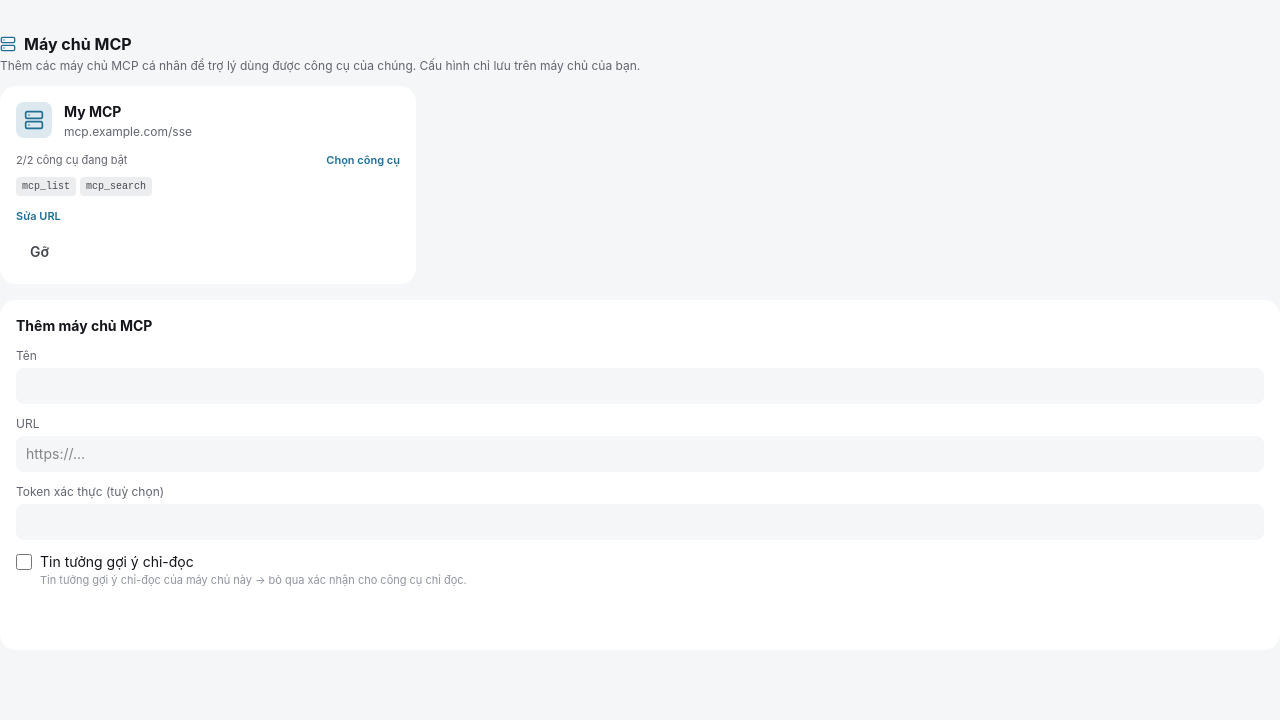
Test: Esc closes the tool dialog without saving
This screenshot has width=1280, height=720.
Expected: the text "My MCP" is shown, [64, 103, 121, 120]
Click the button "Chọn công cụ" at {"x": 363, "y": 160}, box [326, 152, 400, 168]
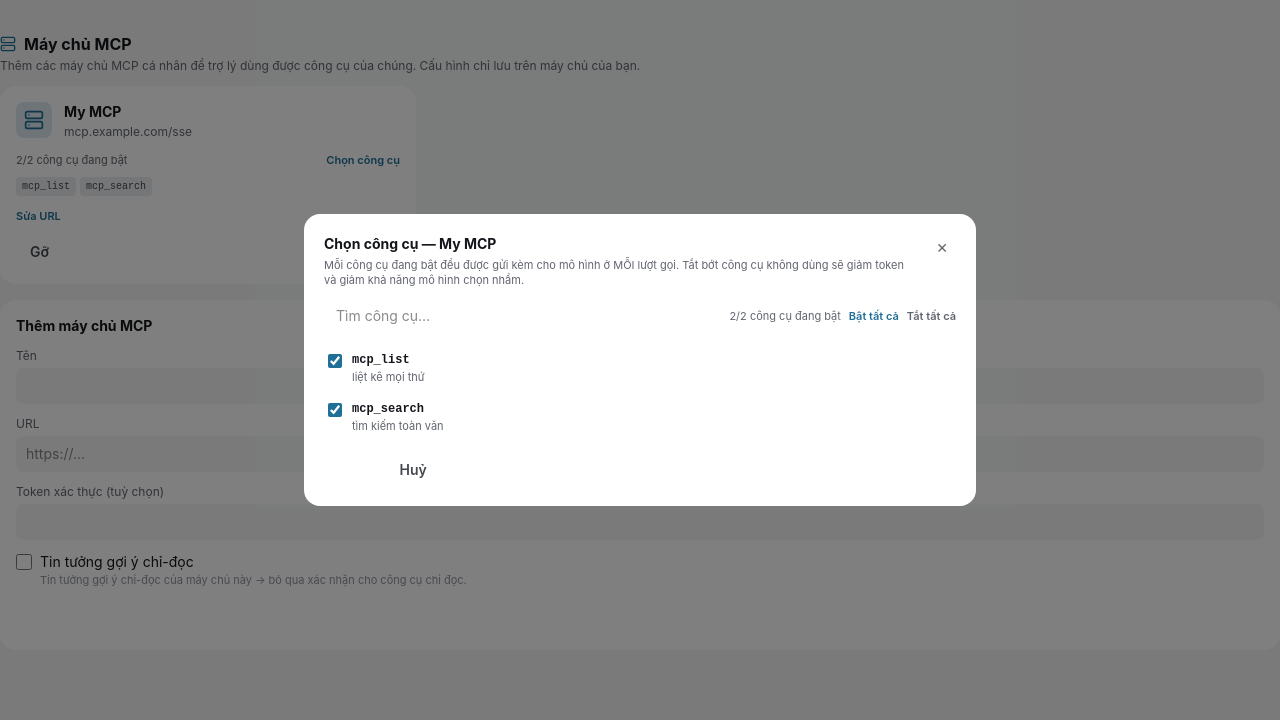
Expected: the dialog is shown, [304, 214, 976, 506]
Press Escape
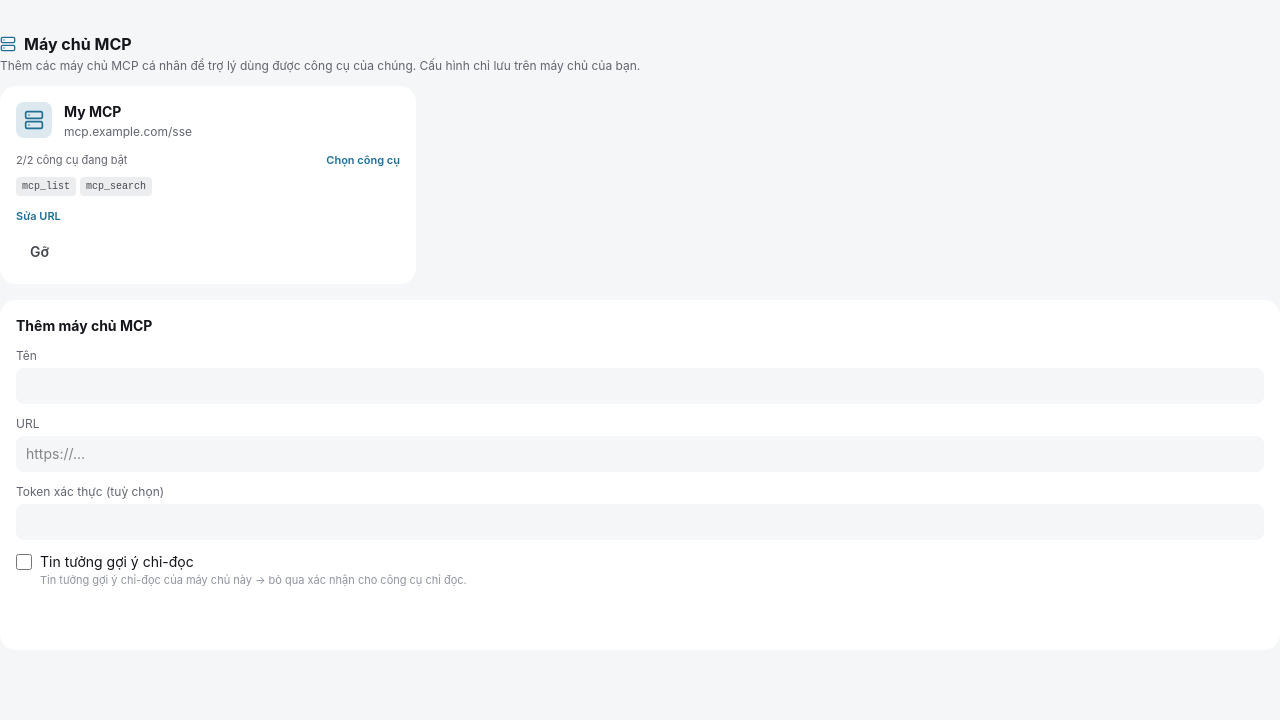
Expected: the dialog is gone
